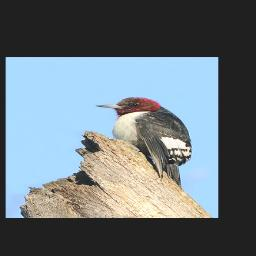Woodpecker: (94, 97, 193, 187)
